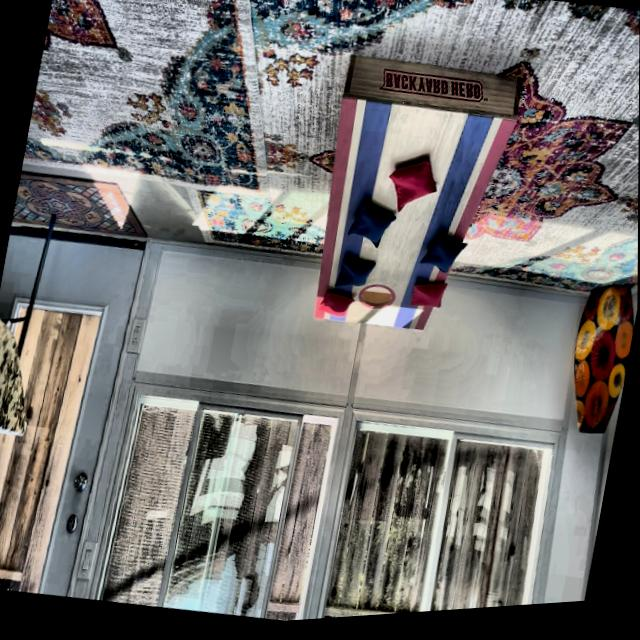blue-bean-bag: (346, 199, 398, 255), (418, 235, 468, 281), (336, 258, 375, 295)
board: (310, 96, 478, 345)
hole: (356, 283, 397, 319)
red-bean-bag: (382, 156, 442, 224), (409, 283, 446, 318), (319, 293, 355, 323)
